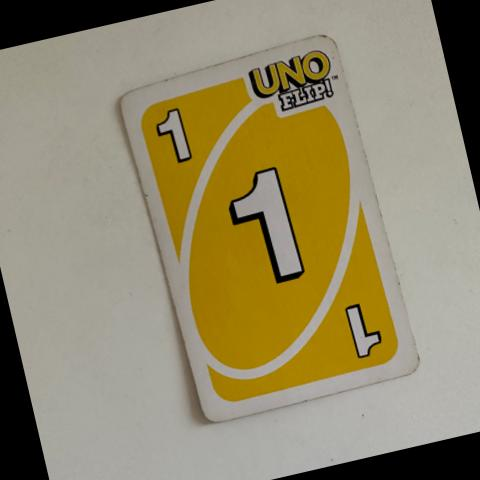lyellow-1: (132, 88, 221, 186)
